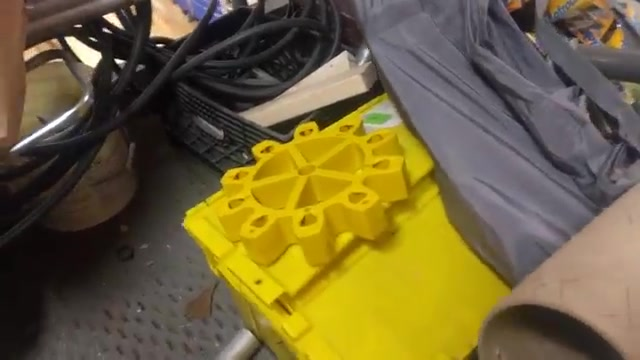gear: (209, 111, 415, 261)
